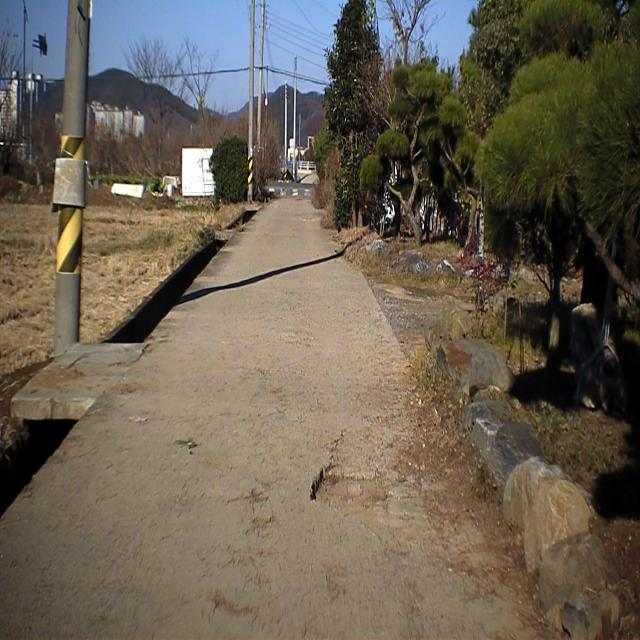Pothole: (306, 457, 394, 526)
